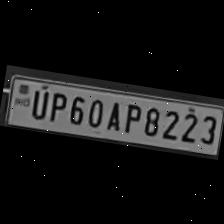0: (82, 92, 108, 128)
2: (176, 106, 200, 144), (158, 104, 180, 140)
3: (196, 110, 220, 144)
6: (64, 89, 88, 125)
8: (138, 101, 162, 137)
A: (103, 96, 125, 131)
P: (44, 86, 68, 124), (118, 98, 143, 134)
U: (25, 83, 49, 119)
